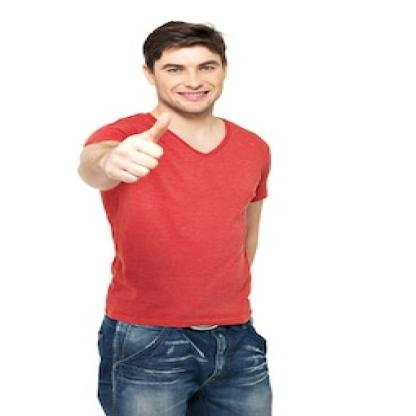thumb_up: (97, 108, 179, 188)
